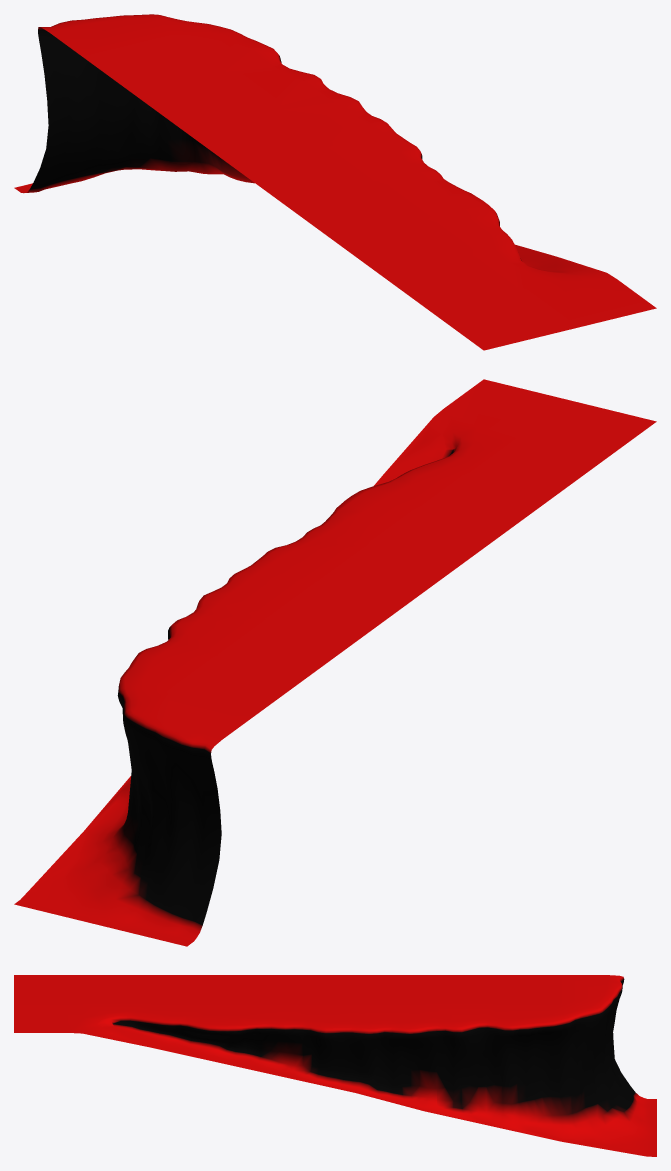
The model's file is ClimbCliff01C 2M Background.fbx.
The picture shows the model from 3 angles, top to bottom: view 1: azimuth 30°, elevation 25°; view 2: azimuth 150°, elevation 25°; view 3: azimuth 270°, elevation 25°; orthographic projection. The views are drawn at different scales.
Visible parts, largest first — view 1: ClimbCliff01C 2M Background; view 2: ClimbCliff01C 2M Background; view 3: ClimbCliff01C 2M Background.
Boxes of the visible parts, box(x1,y1,x2,y2) form: ClimbCliff01C 2M Background: box(14, 14, 656, 350); ClimbCliff01C 2M Background: box(14, 379, 656, 946); ClimbCliff01C 2M Background: box(14, 975, 656, 1156).
Size of the model in its own units: 2 by 2 by 9.4.
